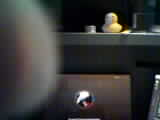duck: (92, 11, 132, 41)
